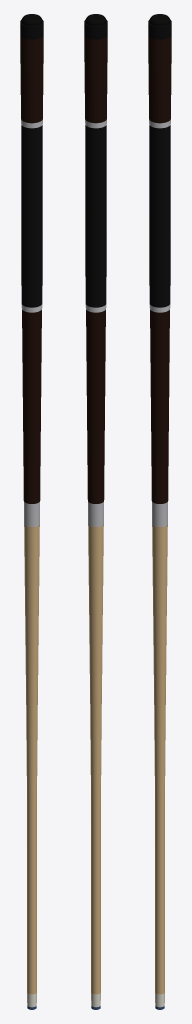
Rendered from cue.glb.
The picture shows the model from 3 angles, left to right: view 1: azimuth 90°, elevation 25°; view 2: azimuth 150°, elevation 25°; view 3: azimuth 270°, elevation 25°; orthographic projection.
Visible parts, largest first — view 1: cue; view 2: cue; view 3: cue.
Part boxes in pixels (x1,y1,x2,y2): cue: (20,14,43,1009); cue: (84,14,107,1009); cue: (148,14,171,1009).
Size of the model in its own units: 0.0318 by 1.47 by 0.0318.
